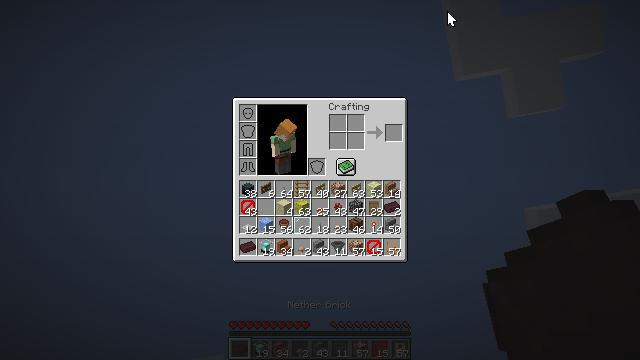cursor: (447, 11, 457, 27)
